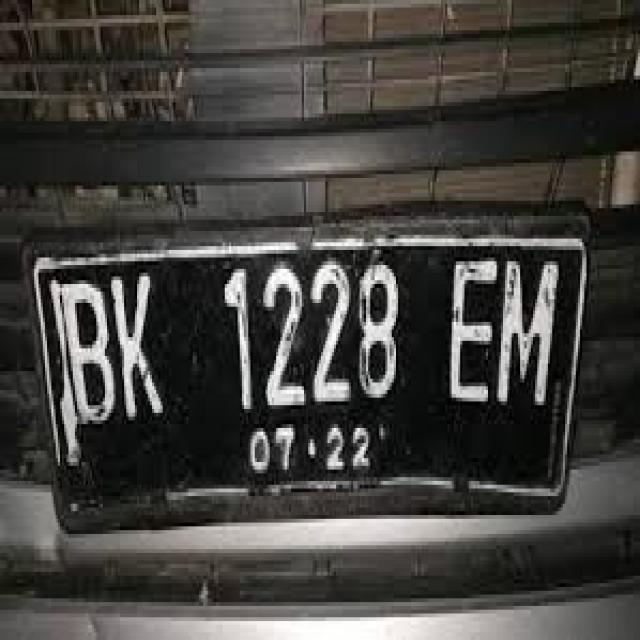license-plat: (31, 232, 591, 542)
